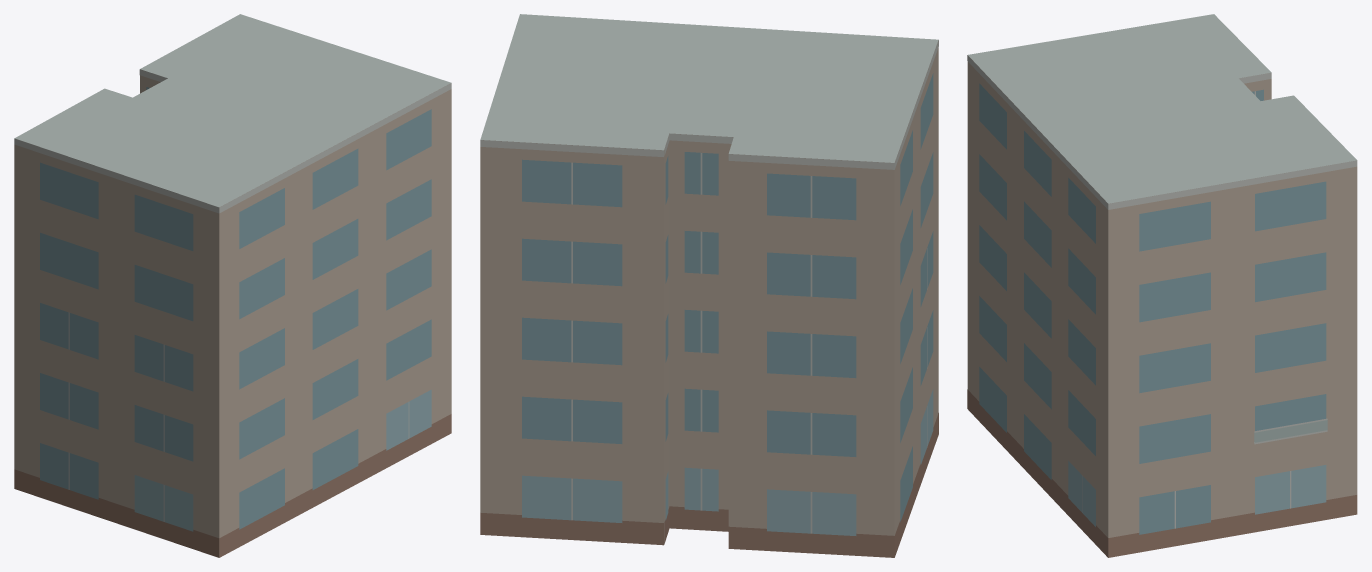
File: survey-upis-32684181.glb
The picture shows the model from 3 angles, left to right: view 1: azimuth 30°, elevation 25°; view 2: azimuth 150°, elevation 25°; view 3: azimuth 270°, elevation 25°; orthographic projection. The views are drawn at different scales.
Parts seen in each view (by area): view 1: survey-upis-32684181.tmp; view 2: survey-upis-32684181.tmp; view 3: survey-upis-32684181.tmp.
Boxes of the visible parts, x1,y1,x2,y2 form: survey-upis-32684181.tmp: (14, 14, 451, 557); survey-upis-32684181.tmp: (480, 14, 938, 557); survey-upis-32684181.tmp: (967, 14, 1357, 557).
Size of the model in its own units: 15.98 by 13.9 by 13.88.
